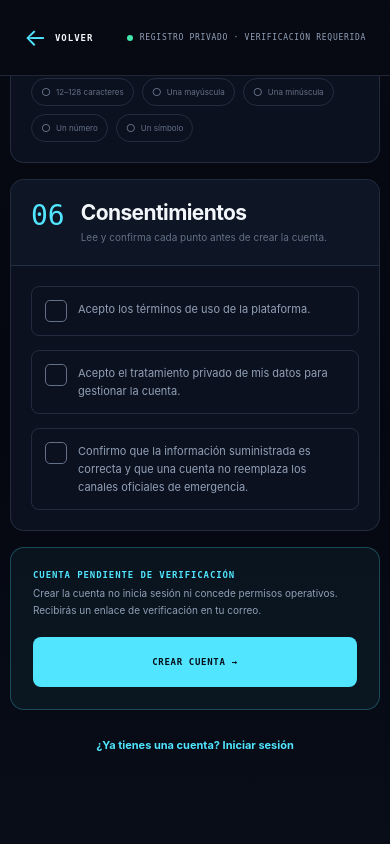
RegistrationForm › no invoca el backend con el formulario vacío
(page scrolled)
Click the button "CREAR CUENTA →" at (195, 662), box [33,637,357,687]
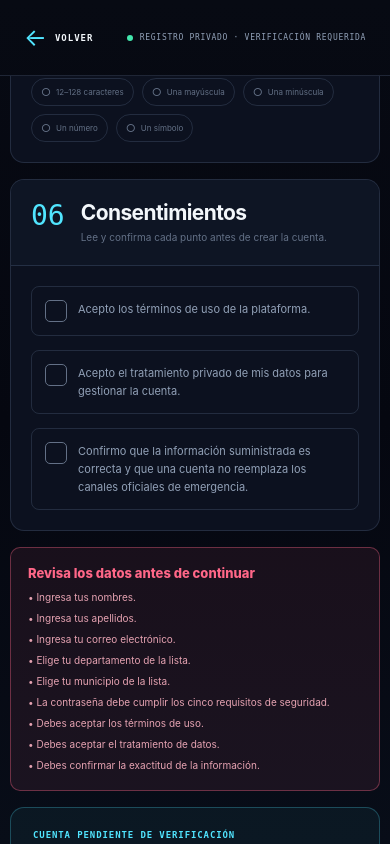
Expected: the text "Revisa los datos antes de continuar" is shown, [28,565,255,581]
Expected: the text "• Ingresa tus nombres." is shown, [28,591,136,603]
